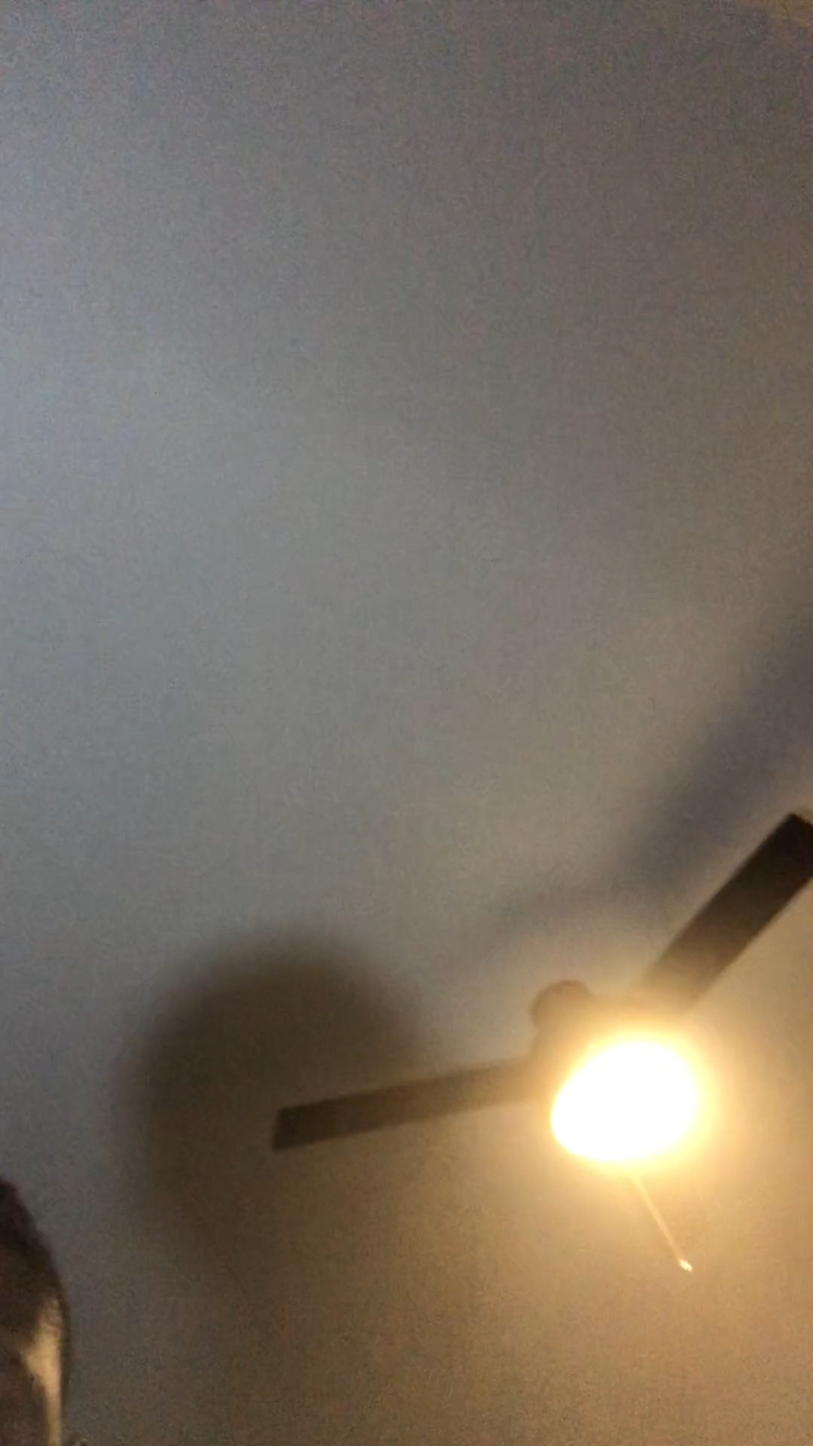face: (0, 1213, 74, 1446)
